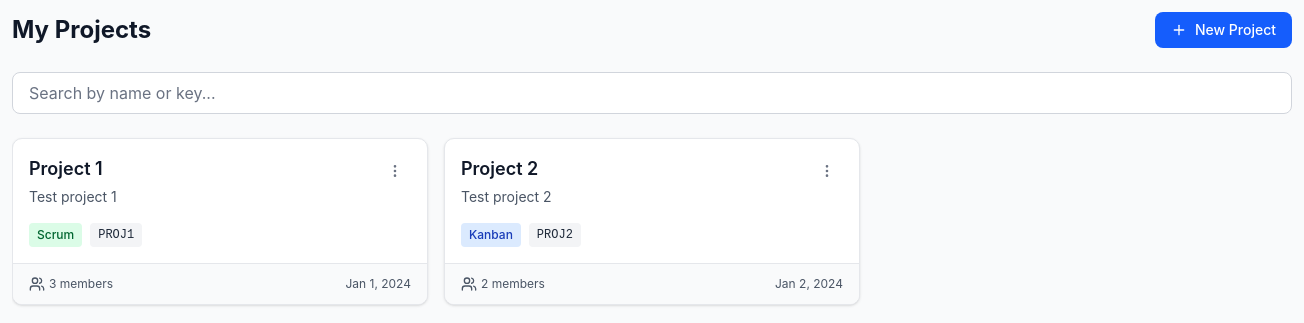
Test: ProjectListPage › should show no search results message
Step 1. Type "NonexistentProject" into the field with placeholder "Search by name or key..." → (652, 93), box x1=12 y1=72 x2=1292 y2=114
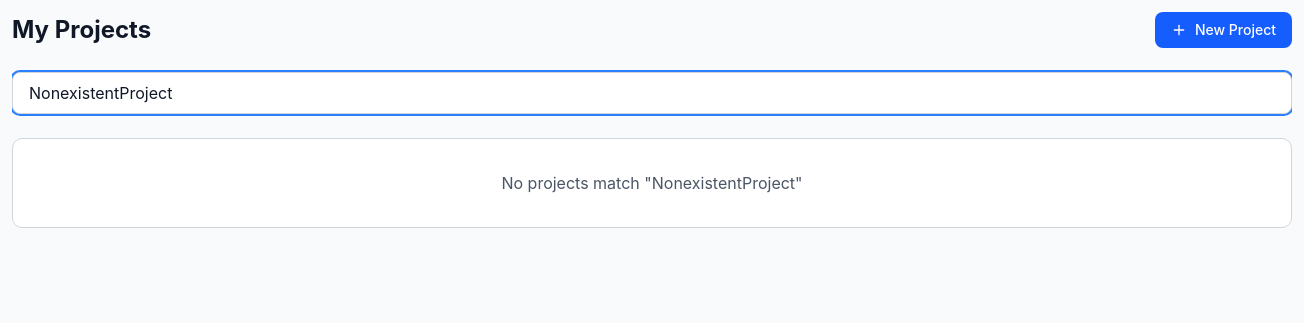
Now the text "No projects match \"NonexistentProject\"" is shown, box x1=501 y1=173 x2=802 y2=193
